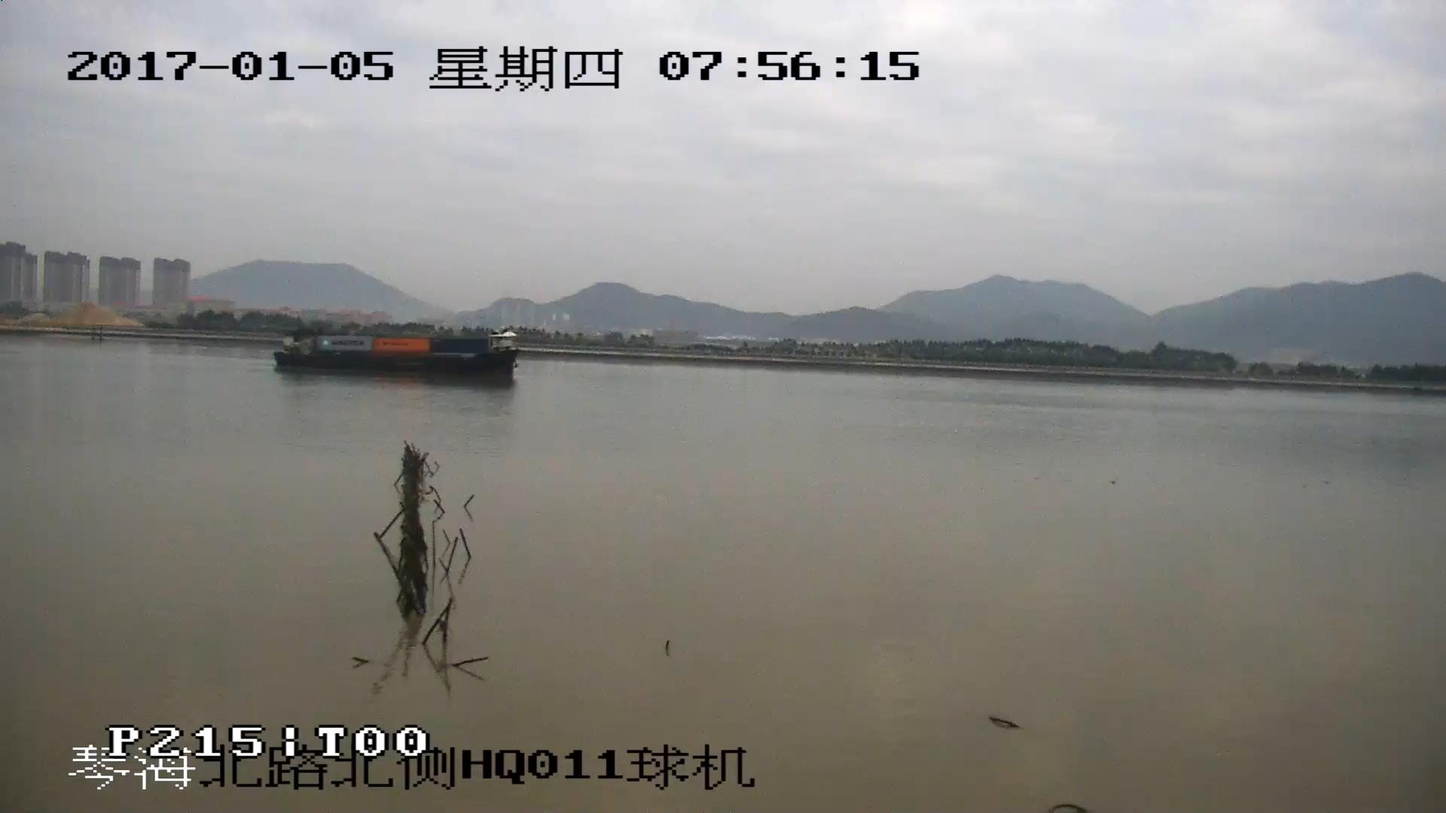container ship: (276, 330, 519, 381)
